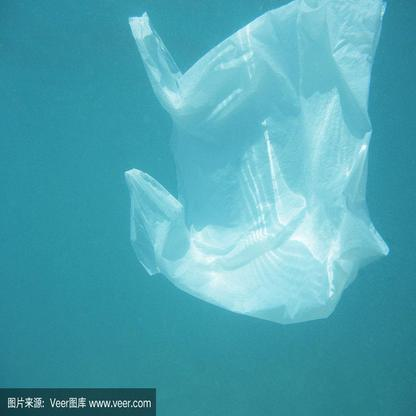plastic bag: (125, 1, 388, 325)
